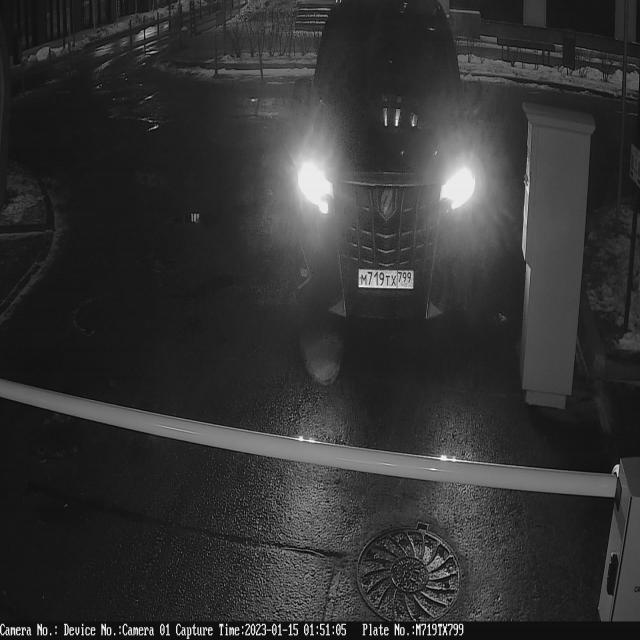car-plate-numbers: (356, 268, 419, 295)
